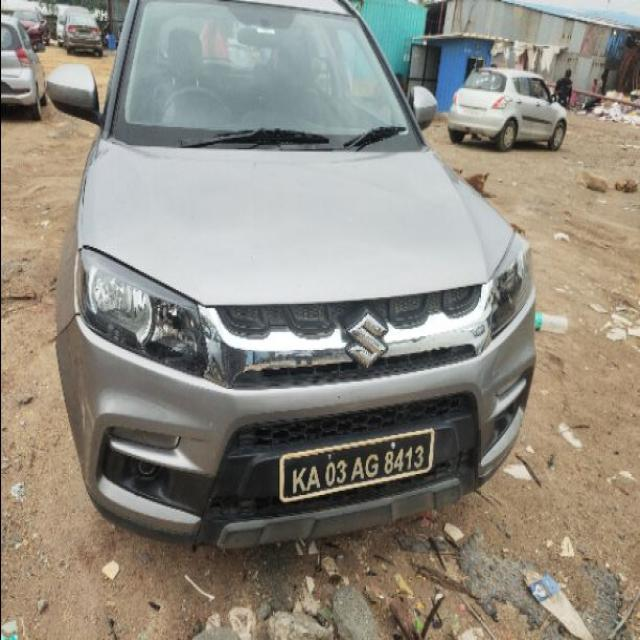license_plate: (277, 426, 435, 504)
